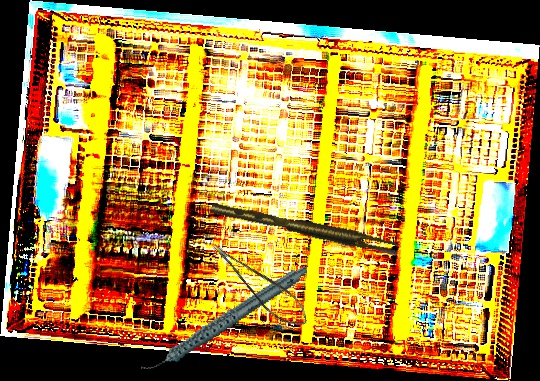Handpiece: (126, 264, 322, 375)
Micro Scissor: (209, 228, 315, 338)
Tissue Forceps: (210, 193, 400, 262)
